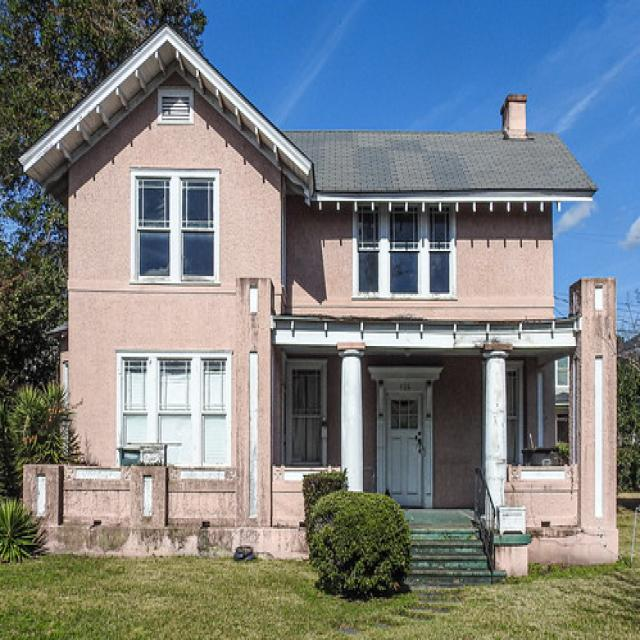building: (17, 20, 620, 581)
